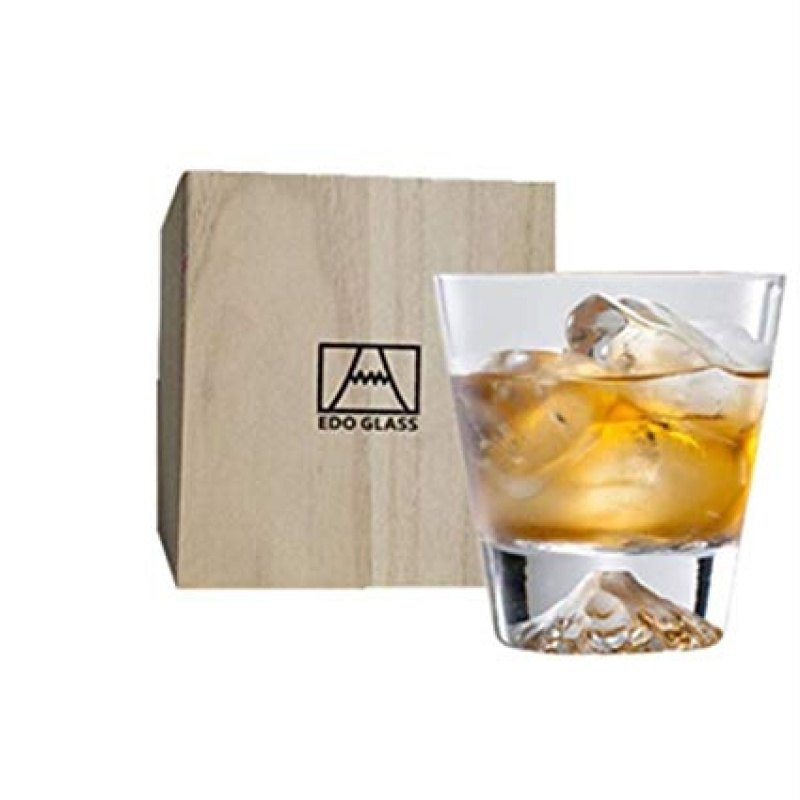whiskey: (430, 274, 783, 646)
